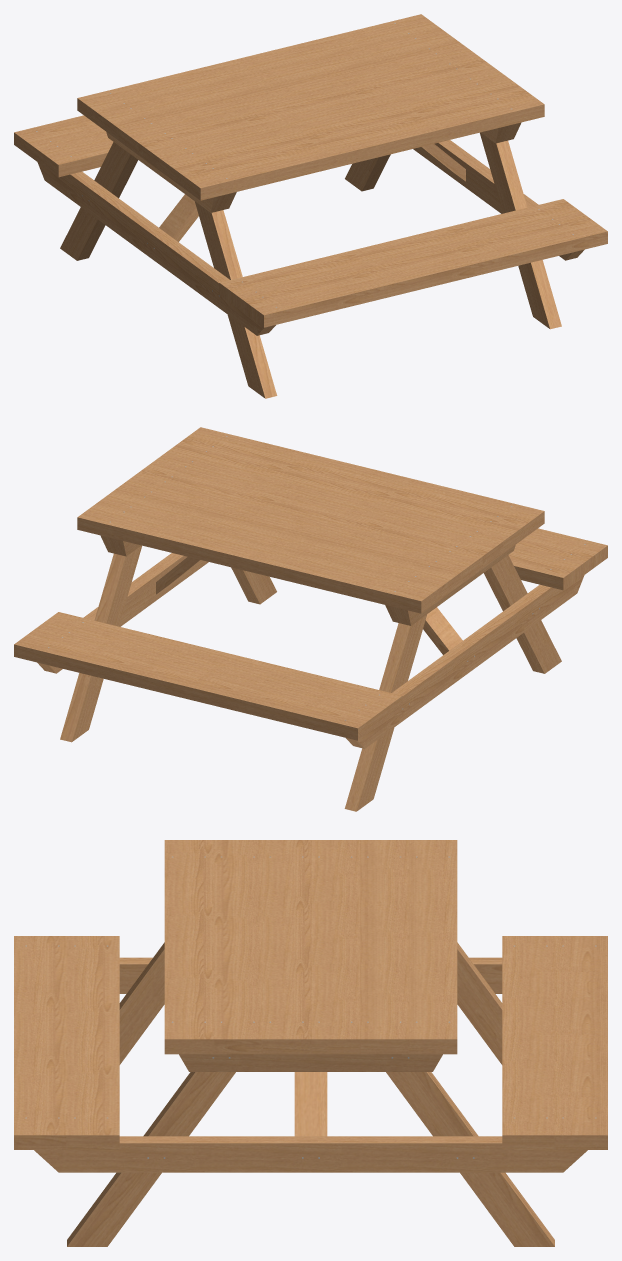
The model's file is picnic_table.glb.
3 views of the same model, one above another, from view 1: azimuth 30°, elevation 25°; view 2: azimuth 150°, elevation 25°; view 3: azimuth 270°, elevation 25° (orthographic). The views are drawn at different scales.
Parts seen in each view (by area): view 1: Table_low; view 2: Table_low; view 3: Table_low.
Part boxes in pixels (x1=…): Table_low: x1=14, y1=14, x2=607, y2=398; Table_low: x1=14, y1=427, x2=607, y2=811; Table_low: x1=14, y1=840, x2=607, y2=1246.
Bounding box in the file's own units: 5800 × 3003 × 7300.
Materials: 2 (1 with a texture image).
